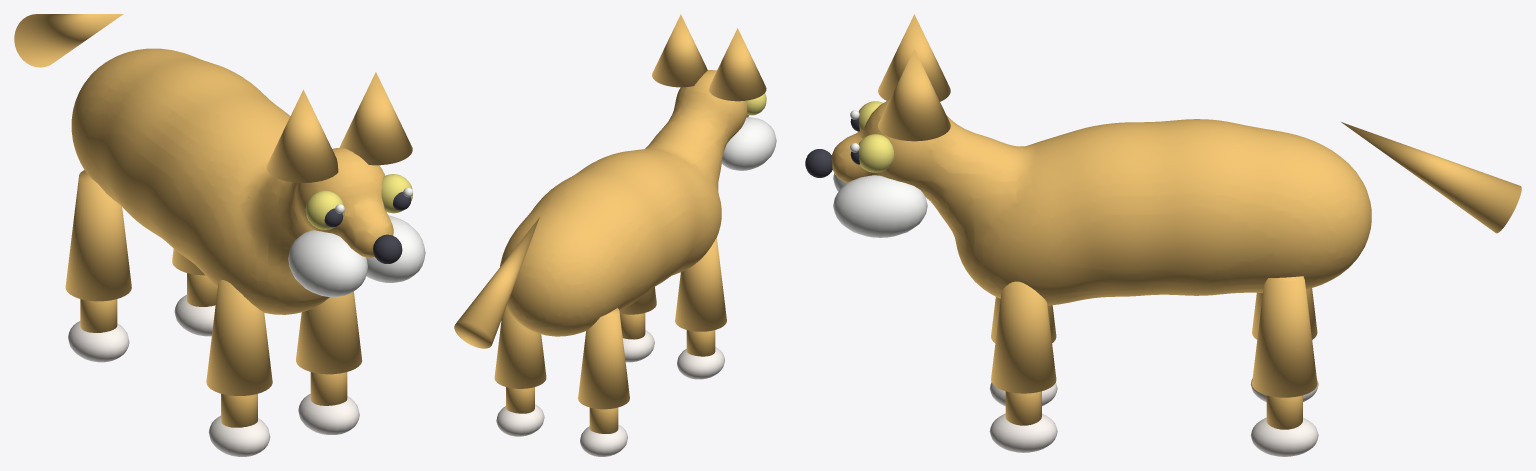
File: Tiger.fbx
The picture shows the model from 3 angles, left to right: view 1: azimuth 30°, elevation 25°; view 2: azimuth 150°, elevation 25°; view 3: azimuth 270°, elevation 25°; orthographic projection. The views are drawn at different scales.
Visible parts, largest first — view 1: Tiger; view 2: Tiger; view 3: Tiger.
Boxes of the visible parts, x1,y1,x2,y2 form: Tiger: [14, 14, 425, 456]; Tiger: [454, 14, 776, 456]; Tiger: [805, 14, 1521, 456].
Bounding box in the file's own units: 154 × 360 × 590.
